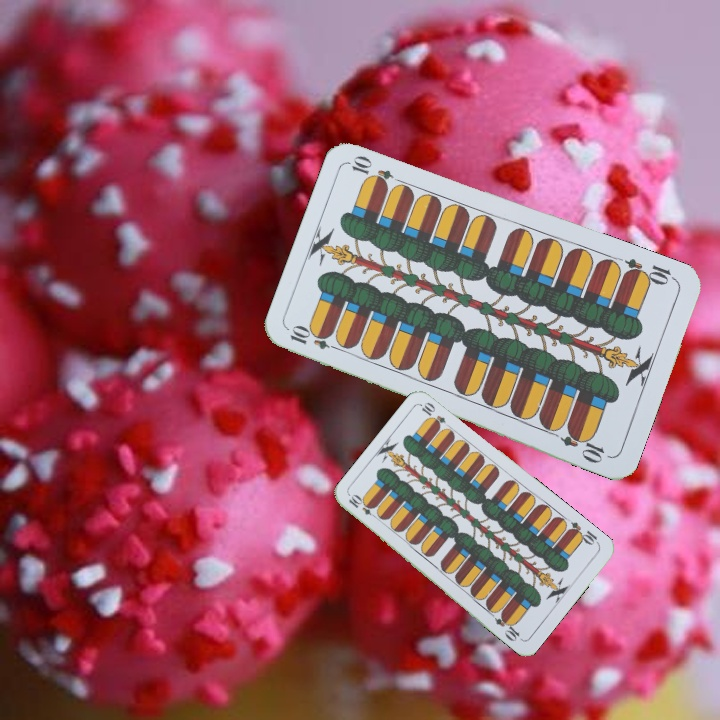E10: (620, 254, 679, 288), (286, 324, 344, 354), (564, 518, 602, 548), (345, 491, 381, 522)
